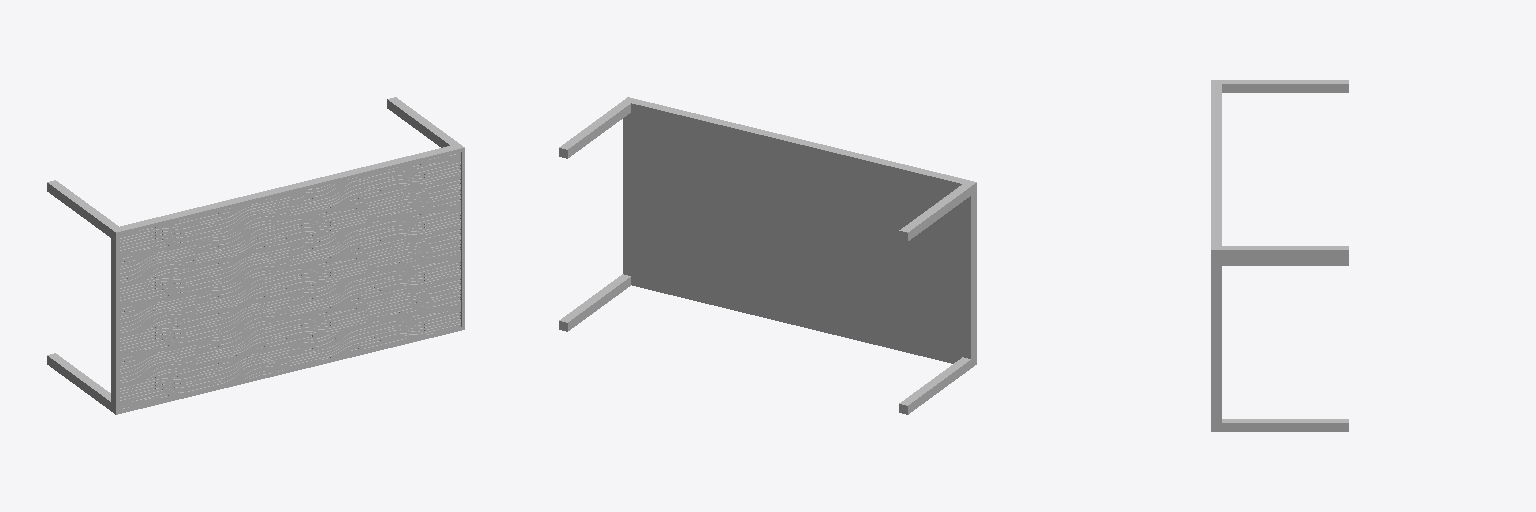
Rendered from Mesa.obj.
3 views of the same model, side by side, from view 1: azimuth 30°, elevation 25°; view 2: azimuth 150°, elevation 25°; view 3: azimuth 270°, elevation 25° (orthographic).
Visible parts, largest first — view 1: obj_0; view 2: obj_0; view 3: obj_0.
Boxes of the visible parts, <box> form: obj_0: <box>47,97,464,414</box>; obj_0: <box>559,97,976,414</box>; obj_0: <box>1211,80,1348,431</box>.
Size of the model in its own units: 752 by 375 by 258.